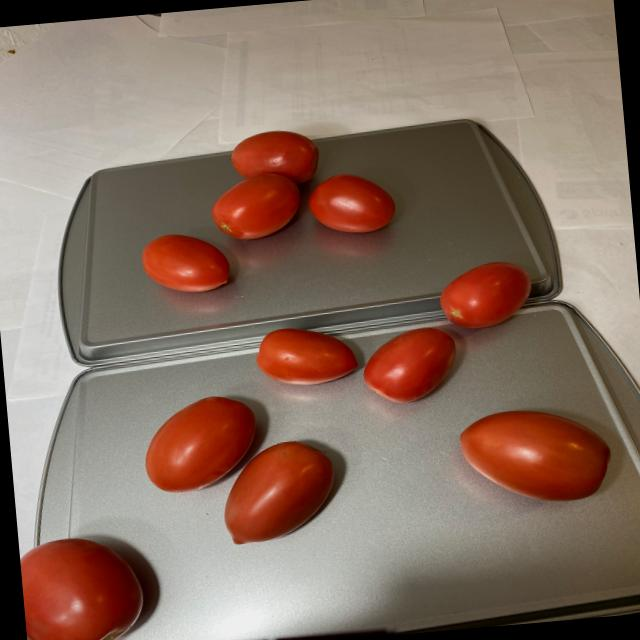tomato: (0, 255, 621, 640), (128, 120, 402, 296)
